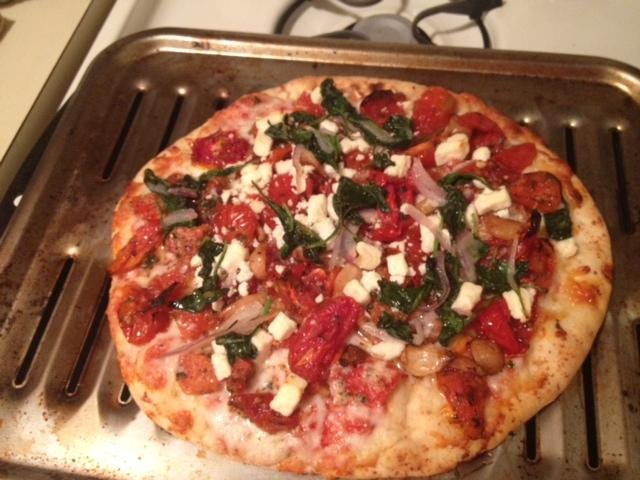tomato: (288, 296, 366, 396), (437, 366, 492, 440), (457, 142, 539, 190), (106, 218, 174, 275), (227, 393, 302, 436), (392, 223, 432, 288), (191, 130, 254, 170), (343, 363, 403, 405), (276, 269, 320, 326), (476, 298, 520, 354), (411, 86, 456, 140), (506, 170, 560, 214), (173, 304, 229, 344), (516, 233, 556, 288), (477, 216, 514, 268), (122, 306, 170, 346), (214, 203, 256, 248), (360, 90, 406, 128), (164, 224, 214, 258), (366, 216, 415, 243), (456, 112, 506, 137), (304, 169, 336, 202), (129, 193, 165, 221), (292, 90, 325, 120), (268, 170, 296, 202), (405, 141, 436, 169), (262, 143, 292, 164), (343, 150, 370, 170), (426, 165, 452, 185), (321, 420, 332, 446), (294, 261, 306, 278)
